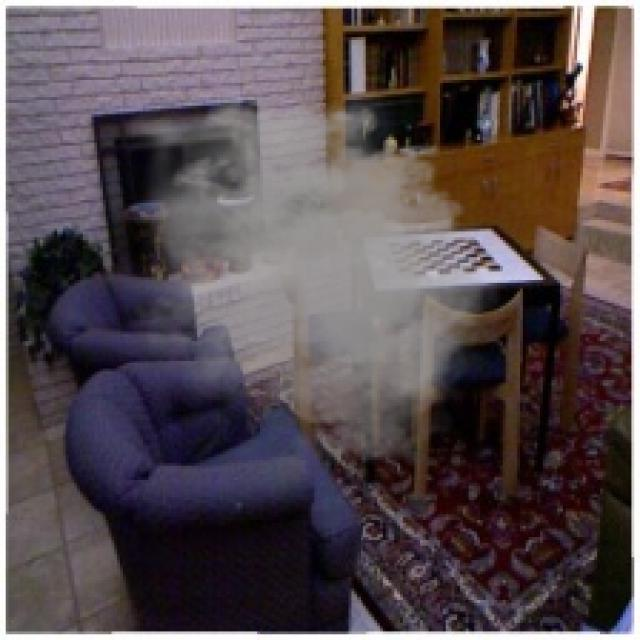smoke: (111, 77, 512, 474)
